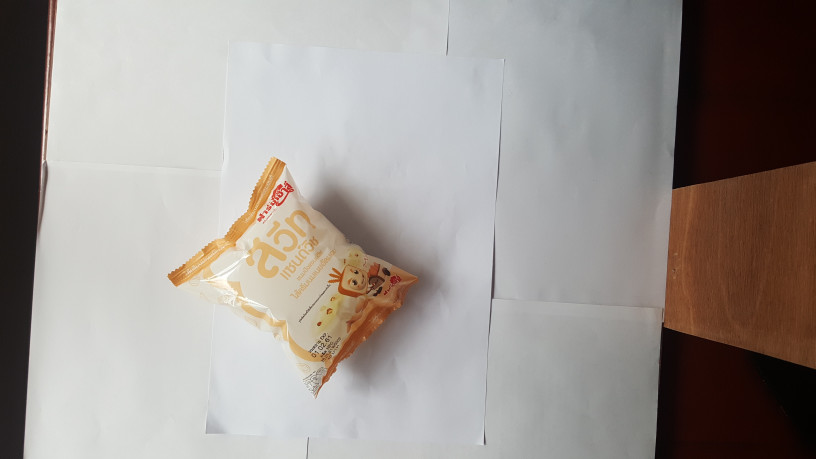farmhouse-sweetsandwich-almond: (160, 150, 426, 404)
